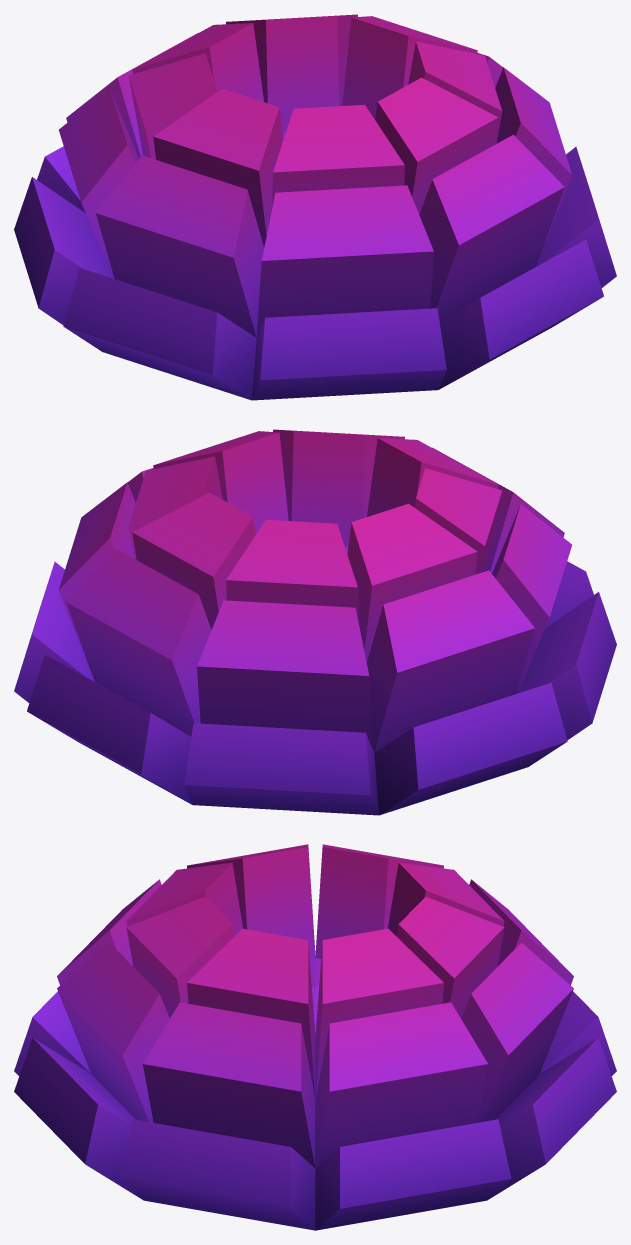
File: anemone_far5.fbx
3 renders of one model, top to bottom at view 1: azimuth 30°, elevation 25°; view 2: azimuth 150°, elevation 25°; view 3: azimuth 270°, elevation 25°, orthographic.
Parts seen in each view (by area): view 1: anemone_far5; view 2: anemone_far5; view 3: anemone_far5.
Boxes of the visible parts, box(x1,y1,x2,y2) form: anemone_far5: box(14, 14, 616, 400); anemone_far5: box(14, 429, 616, 815); anemone_far5: box(14, 844, 616, 1230).
Size of the model in its own units: 0.025 by 0.0107 by 0.025.
Materials: 1 (1 with a texture image).
